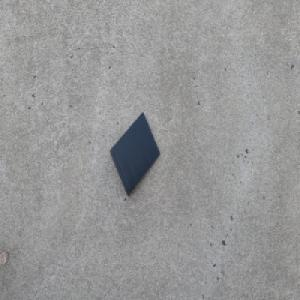PlasticPart: (109, 111, 161, 197)
